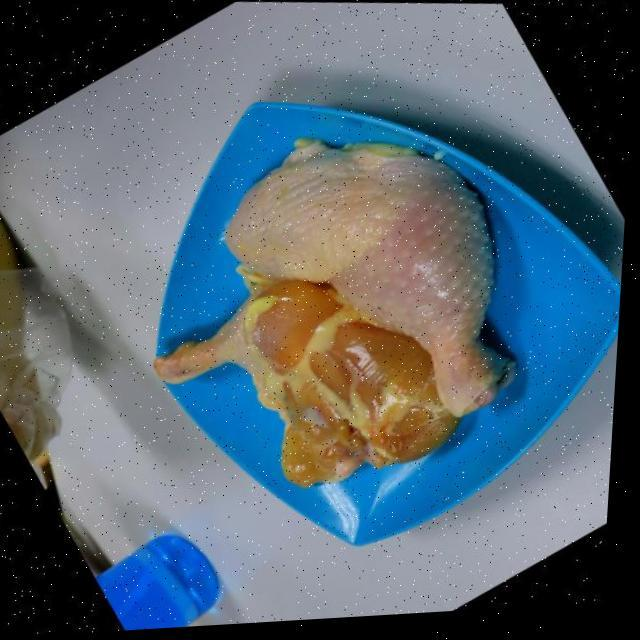quater: (248, 140, 528, 422), (166, 286, 448, 494)
